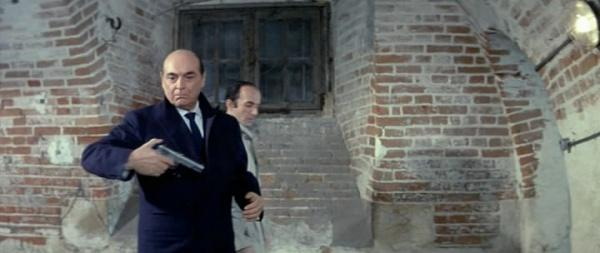Gun: (157, 143, 205, 175)
